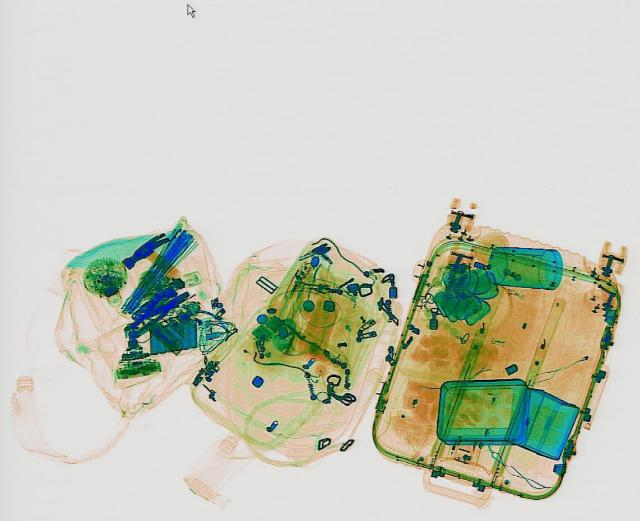Pliers: (116, 280, 190, 332)
